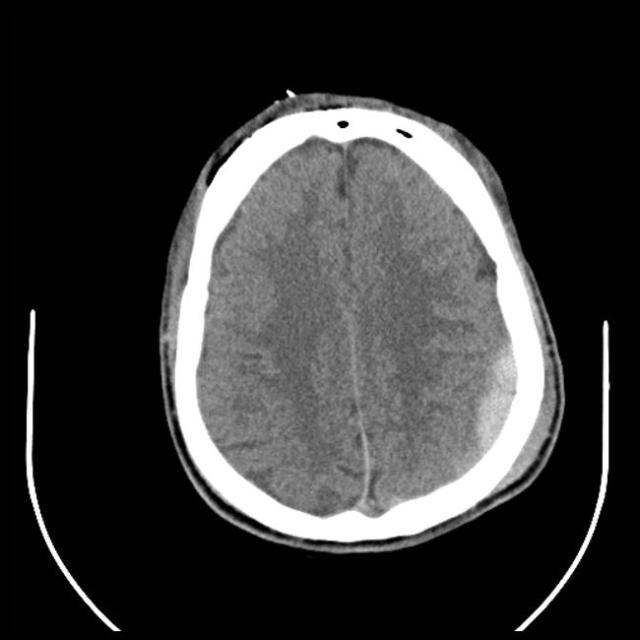lesion: (157, 89, 565, 552)
